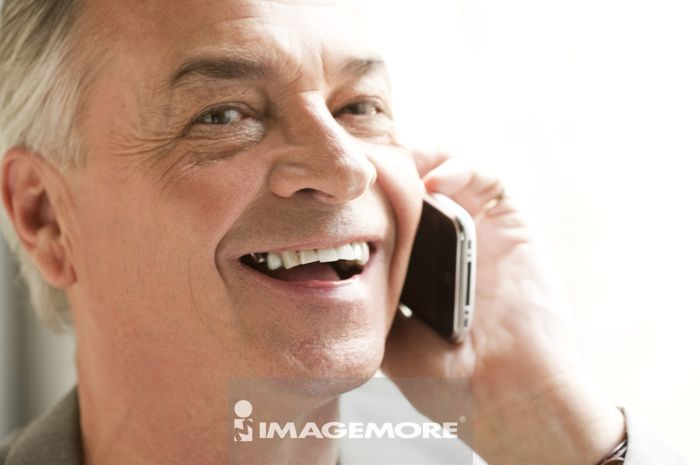phone: (406, 189, 478, 342)
talk: (153, 37, 553, 447)
